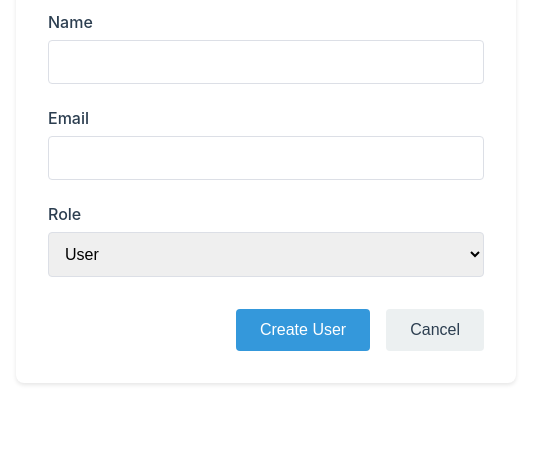
Test: UserForm › Form Submission › handles submission errors
The width and height of the screenshot is (533, 469).
Fill form with valid data
Type "John Doe" into the field with test id "name-input" at (266, 62), box x1=48 y1=40 x2=484 y2=84
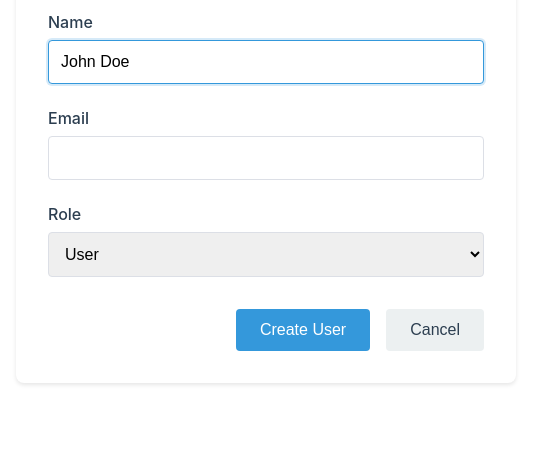
Type "john@example.com" into the field with test id "email-input" at (266, 158), box x1=48 y1=136 x2=484 y2=180
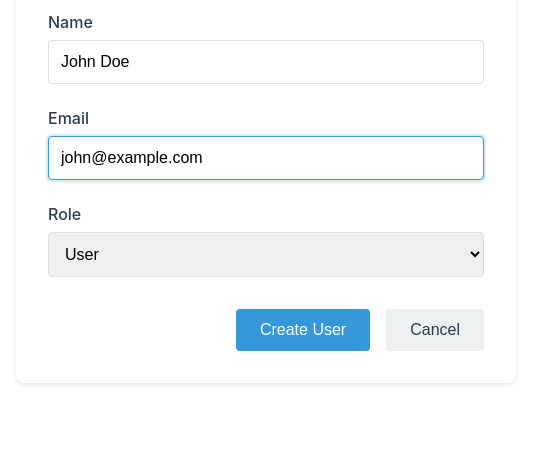
Submit form
Click the button with test id "submit-button" at (303, 330), box x1=236 y1=309 x2=370 y2=351
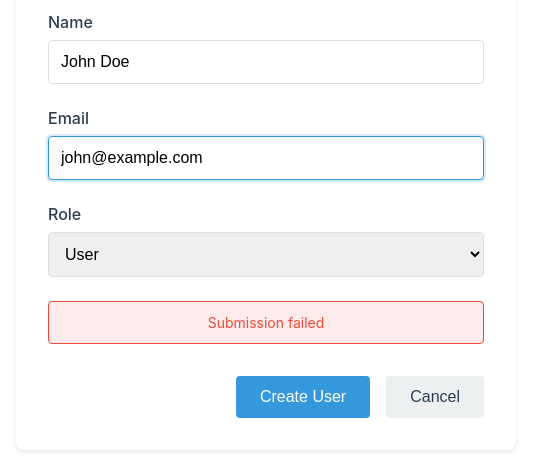
Result: the text with test id "submit-error" reads "Submission failed" at x1=208 y1=314 x2=324 y2=331
